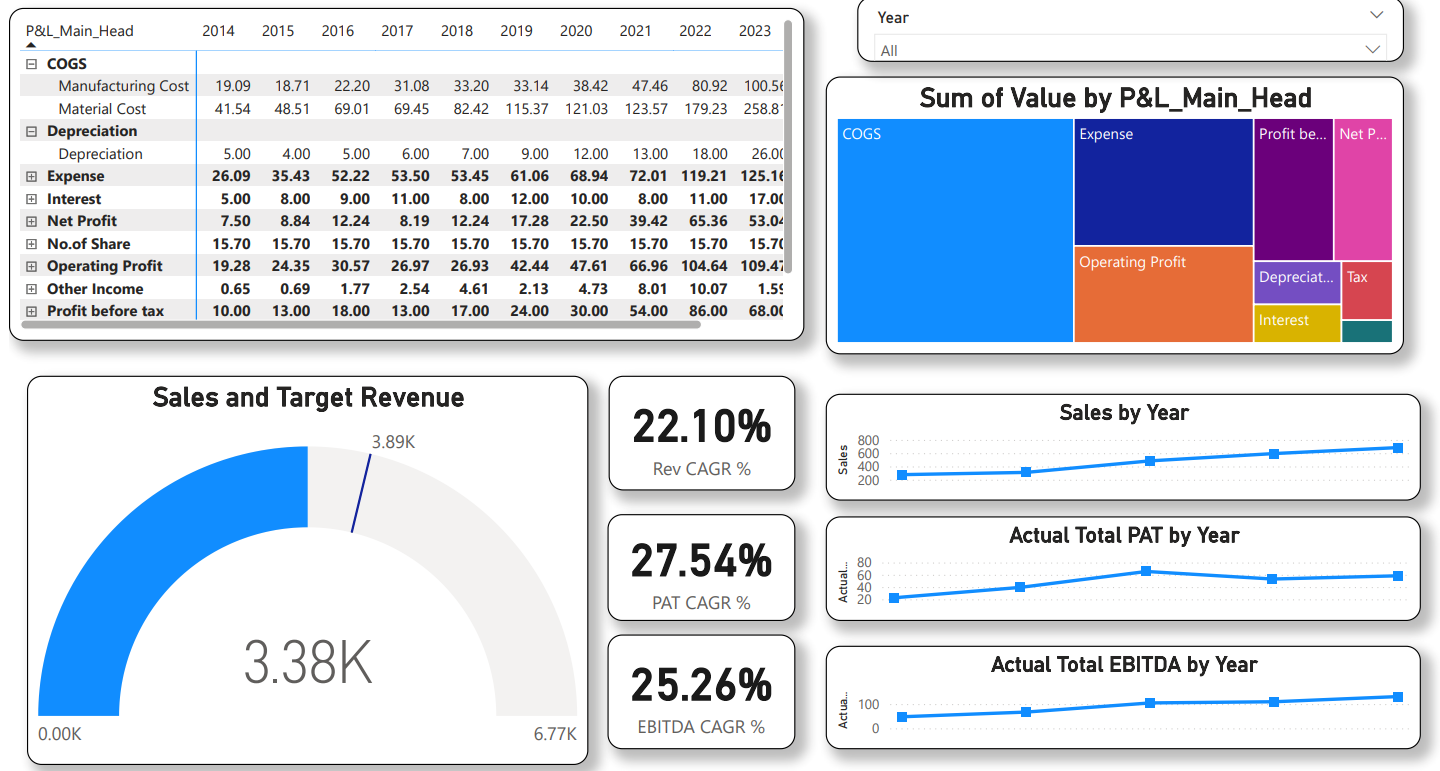

What the dashboard file says about the page in this screenshot:
{"tool":"powerbi","page":{"name":"Income Statement","canvas":[1280,720],"ordinal":3},"visuals":[{"type":"pivotTable","fields":{"Rows":["P&L Dim.P&L_Main_Head","P&L Dim.P&L_Sub_Head"],"Columns":["Date Dim.Year"],"Values":["Sum(P&L Fact.Value)"]},"box":[0,22.9,707,295.6],"z":0},{"type":"treemap","fields":{"Group":["P&L Dim.P&L_Main_Head"],"Values":["Sum(P&L Fact.Value)"]},"box":[726.3,84.5,513.9,246.1],"z":1000},{"type":"gauge","fields":{"Y":["P&L Fact.Sales"],"TargetValue":["P&L Fact.Target Revenue"]},"box":[15.7,349.9,499.5,346.2],"z":2000},{"type":"card","fields":{"Values":["P&L Fact.Rev CAGR %"]},"box":[533.2,349.9,165.3,102.5],"z":3000},{"type":"card","fields":{"Values":["P&L Fact.PAT CAGR %"]},"box":[532,472.9,166.5,95.3],"z":4000},{"type":"card","fields":{"Values":["P&L Fact.EBITDA CAGR %"]},"box":[532,580.3,166.5,101.3],"z":5000},{"type":"lineChart","fields":{"Category":["Date Dim.Date.Variation.Date Hierarchy.Year"],"Y":["P&L Fact.Sales"]},"box":[726.3,365.6,528.4,95.3],"z":6000},{"type":"lineChart","fields":{"Category":["Date Dim.Date.Variation.Date Hierarchy.Year"],"Y":["P&L Fact.Actual Total PAT"]},"box":[726.3,475.3,528.4,92.9],"z":7000},{"type":"lineChart","fields":{"Category":["Date Dim.Date.Variation.Date Hierarchy.Year"],"Y":["P&L Fact.Actual Total EBITDA"]},"box":[726.3,589.9,528.4,91.7],"z":8000},{"type":"slicer","fields":{"Values":["Date Dim.Date.Variation.Date Hierarchy.Year"]},"box":[754,13.3,486.2,57.9],"z":9000}]}

Visuals, with their boxes on the page's 1280x720 design canvas (x1, y1, x2, y2). These are canvas units, not pixel positions in the 1440x771 screenshot, which may show the page scaled, cropped or inside an application window:
pivotTable - P&L Dim.P&L_Main_Head x P&L Dim.P&L_Sub_Head: [x1=0, y1=23, x2=707, y2=318]
treemap - P&L Dim.P&L_Main_Head x Sum(P&L Fact.Value): [x1=726, y1=84, x2=1240, y2=331]
gauge - P&L Fact.Sales x P&L Fact.Target Revenue: [x1=16, y1=350, x2=515, y2=696]
card - P&L Fact.Rev CAGR %: [x1=533, y1=350, x2=698, y2=452]
card - P&L Fact.PAT CAGR %: [x1=532, y1=473, x2=698, y2=568]
card - P&L Fact.EBITDA CAGR %: [x1=532, y1=580, x2=698, y2=682]
lineChart - Date Dim.Date.Variation.Date Hierarchy.Year x P&L Fact.Sales: [x1=726, y1=366, x2=1255, y2=461]
lineChart - Date Dim.Date.Variation.Date Hierarchy.Year x P&L Fact.Actual Total PAT: [x1=726, y1=475, x2=1255, y2=568]
lineChart - Date Dim.Date.Variation.Date Hierarchy.Year x P&L Fact.Actual Total EBITDA: [x1=726, y1=590, x2=1255, y2=682]
slicer - Date Dim.Date.Variation.Date Hierarchy.Year: [x1=754, y1=13, x2=1240, y2=71]
